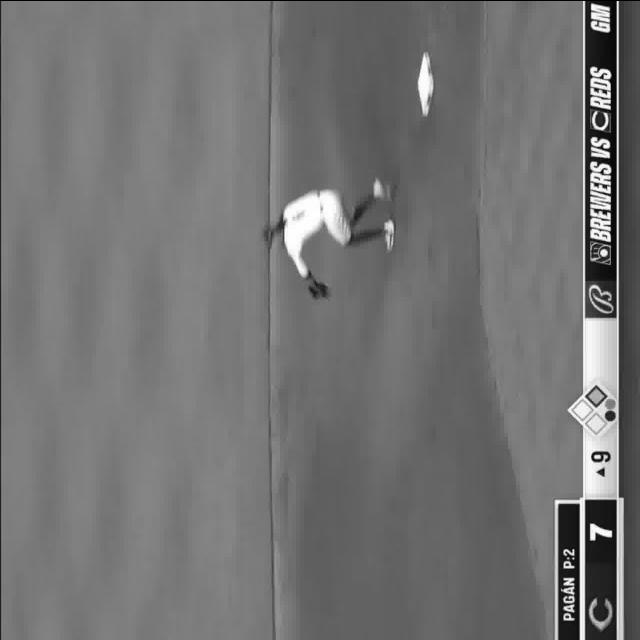base: (417, 47, 433, 122)
baseball_glove: (302, 277, 328, 301)
shoe: (368, 172, 395, 202), (381, 215, 399, 252)
